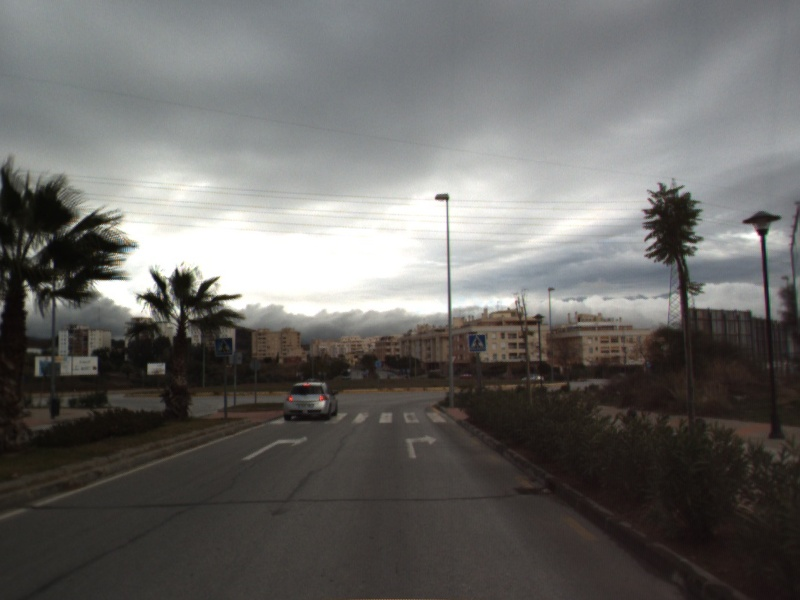RIGHT: (240, 434, 309, 462), (403, 433, 439, 460)
